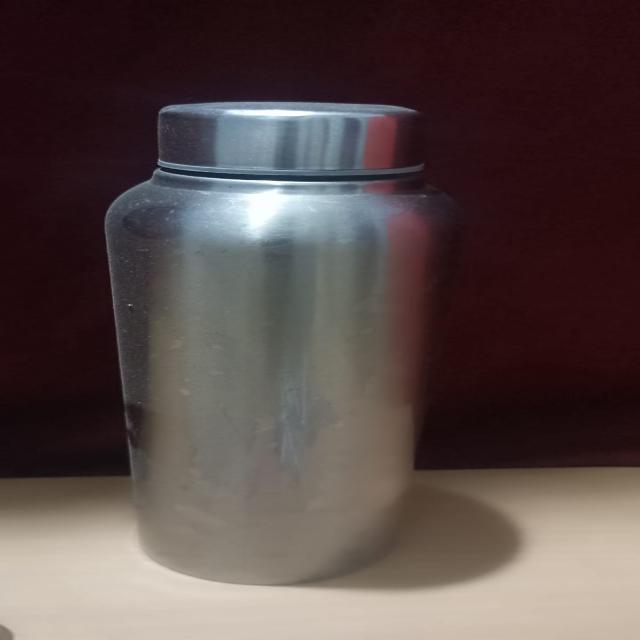bottle: (93, 90, 431, 594)
